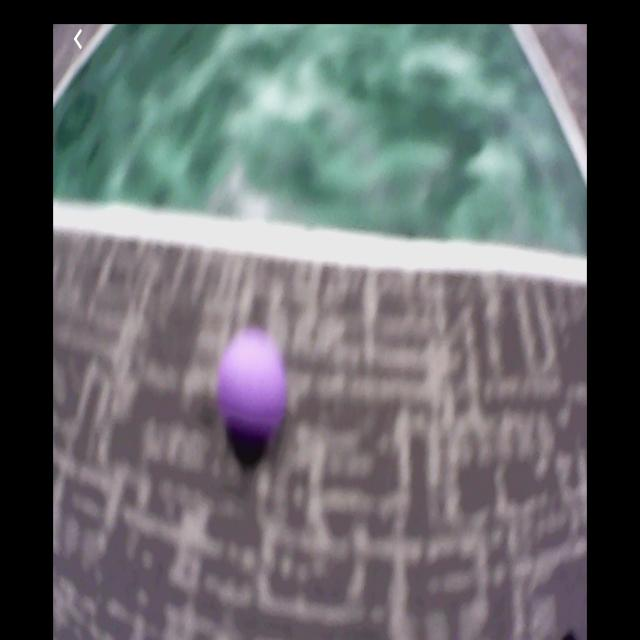ball: (216, 325, 285, 436)
